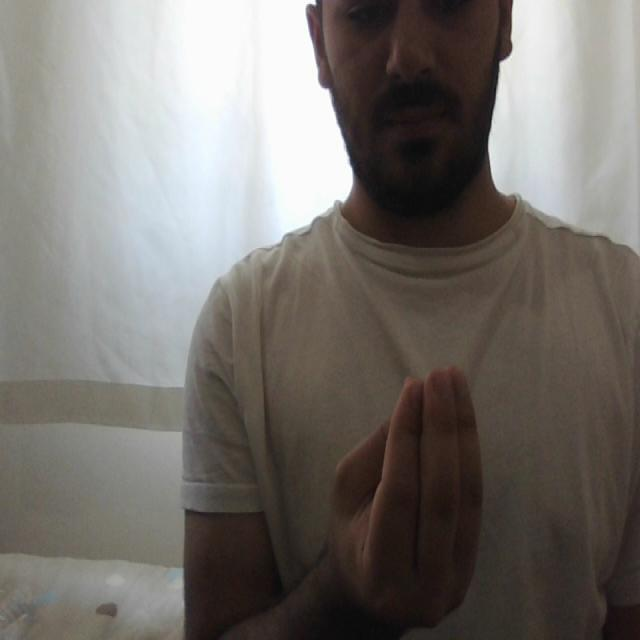iyi: (318, 362, 484, 622)
